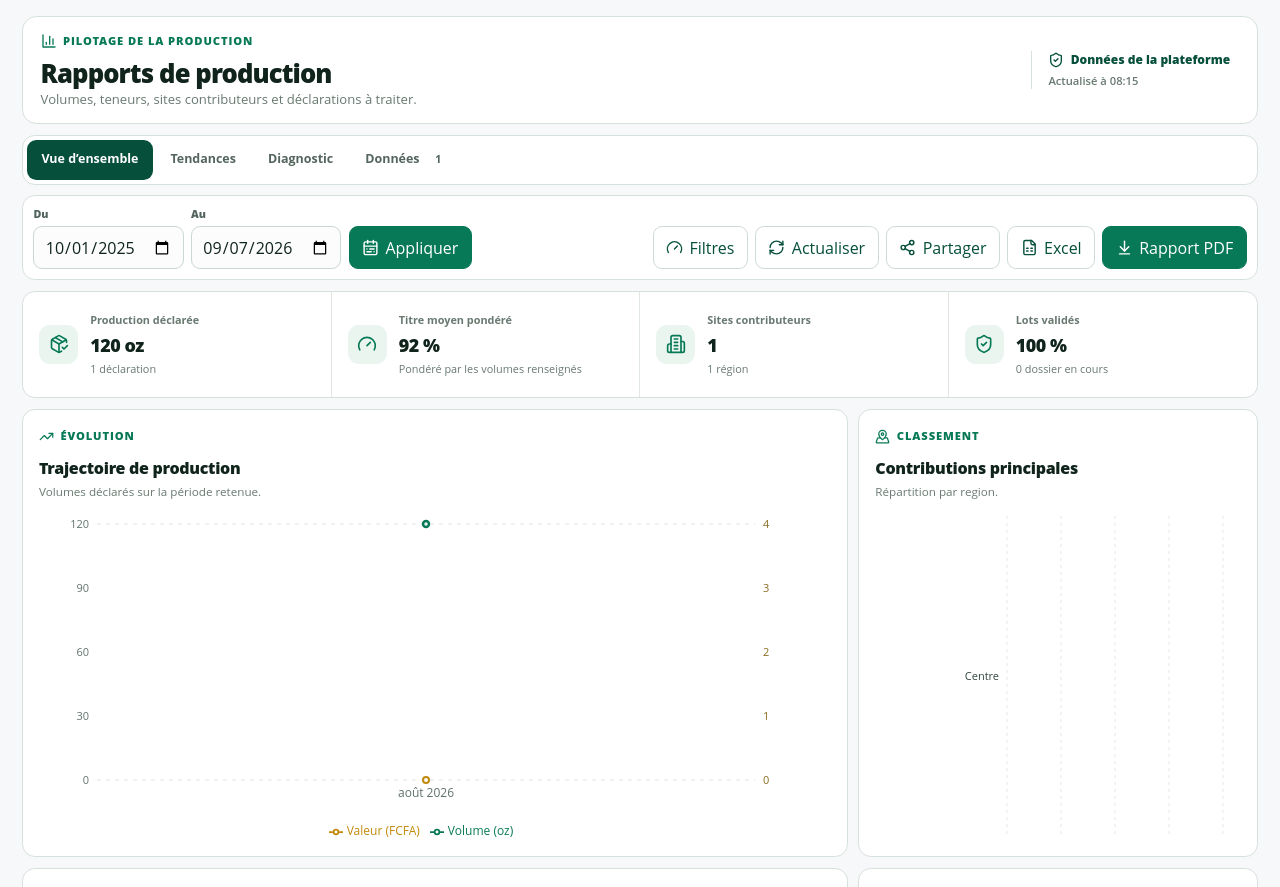
Test: BusinessIntelligenceWorkspace › sépare le pilotage, le diagnostic et les données au lieu de tout répéter
Expected: the heading "Rapports de production" is shown, x1=41 y1=56 x2=332 y2=90
Expected: the text "Production déclarée" is shown, x1=90 y1=312 x2=199 y2=328
Click the button "Diagnostic": (301, 160) x1=254 y1=140 x2=348 y2=180
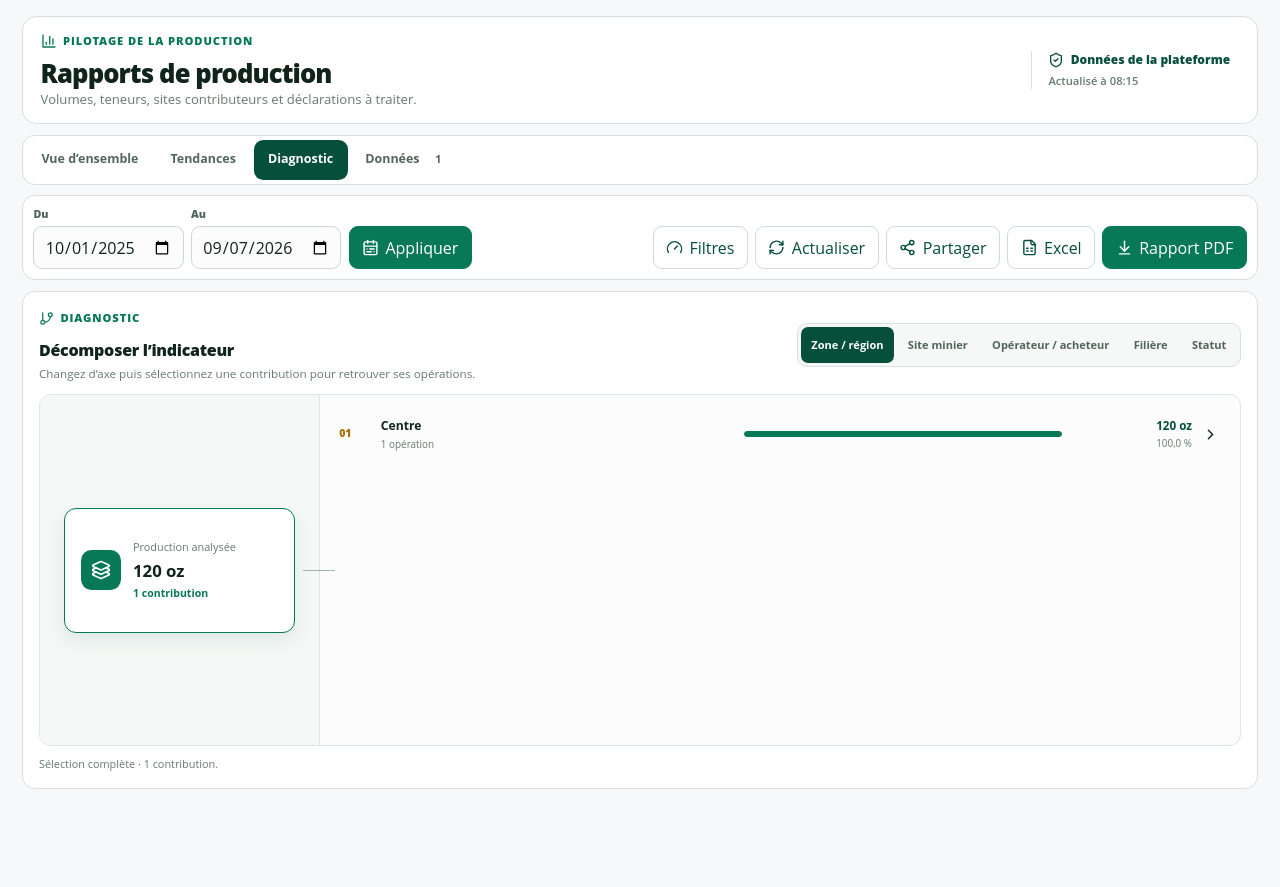
Now the heading "Décomposer l’indicateur" is shown, box x1=39 y1=339 x2=234 y2=361
Click the button "Données 1": (408, 160) x1=351 y1=140 x2=464 y2=180
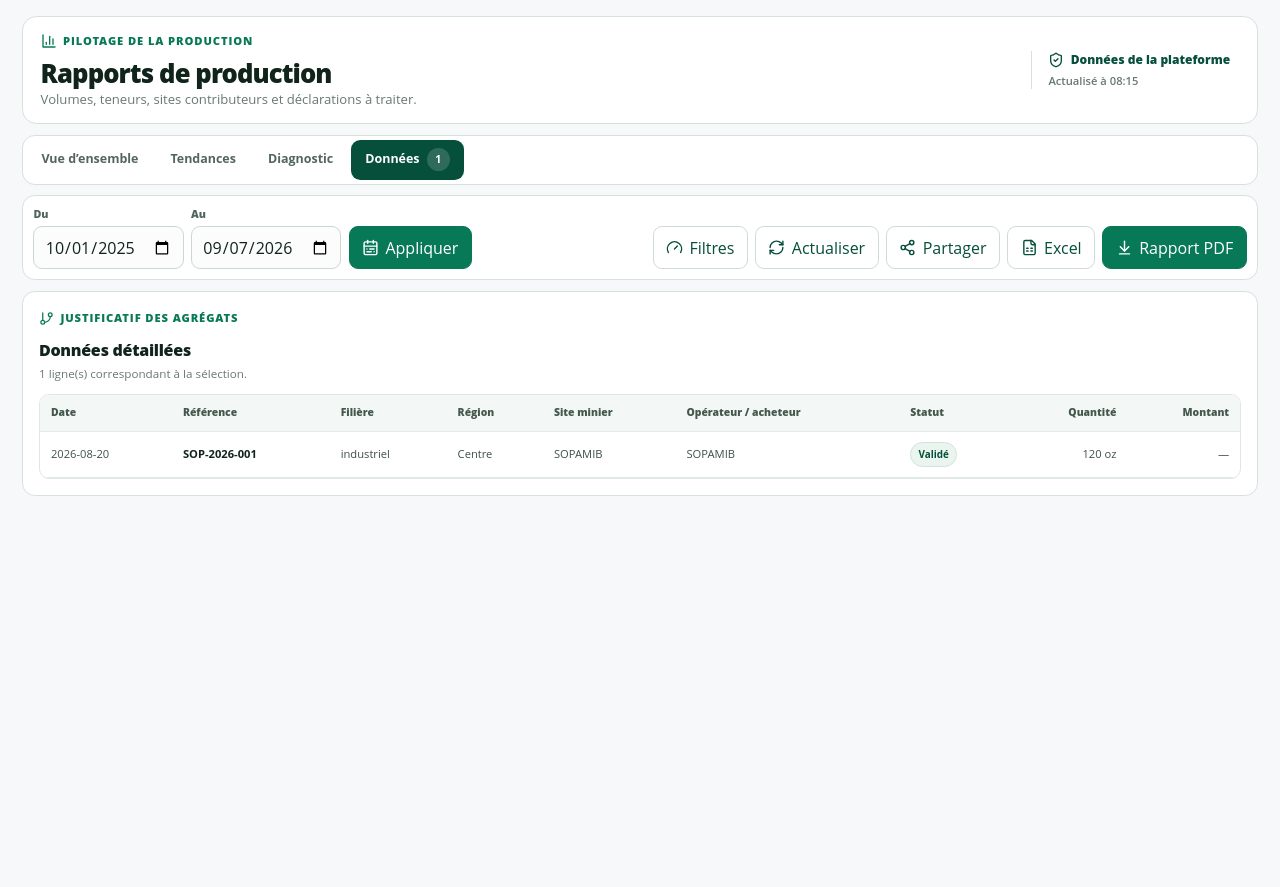
Now the column heading "Référence" is shown, box x1=172 y1=395 x2=330 y2=431
Now the text "SOP-2026-001" is shown, box x1=183 y1=446 x2=257 y2=461
